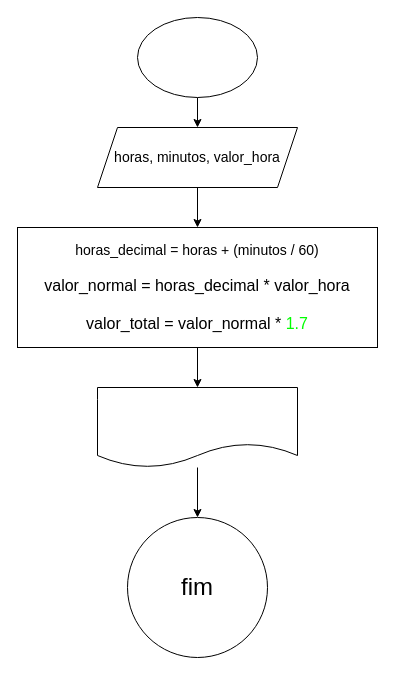
The diagram is 395 pixels wide and 675 high, and some of its shapes have lost their labels. Here are the shapes that lost their labels. From the top down, the centre of each, then its label:
At point 197,57: "inicio".
At point 197,427: "horas_decimal, valor_normal, valor_total".
